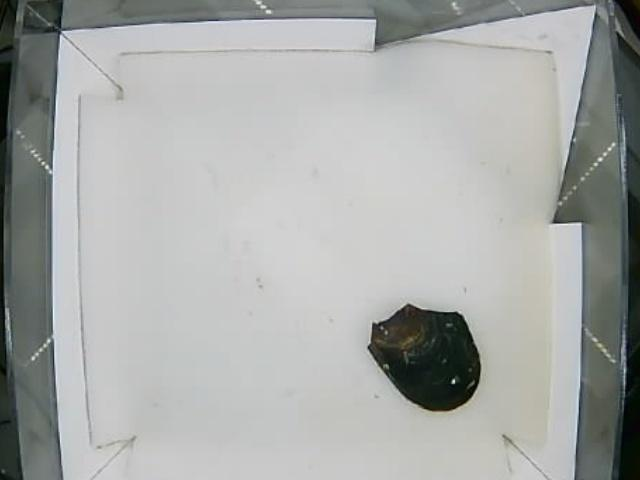Shell: (367, 300, 480, 410)
